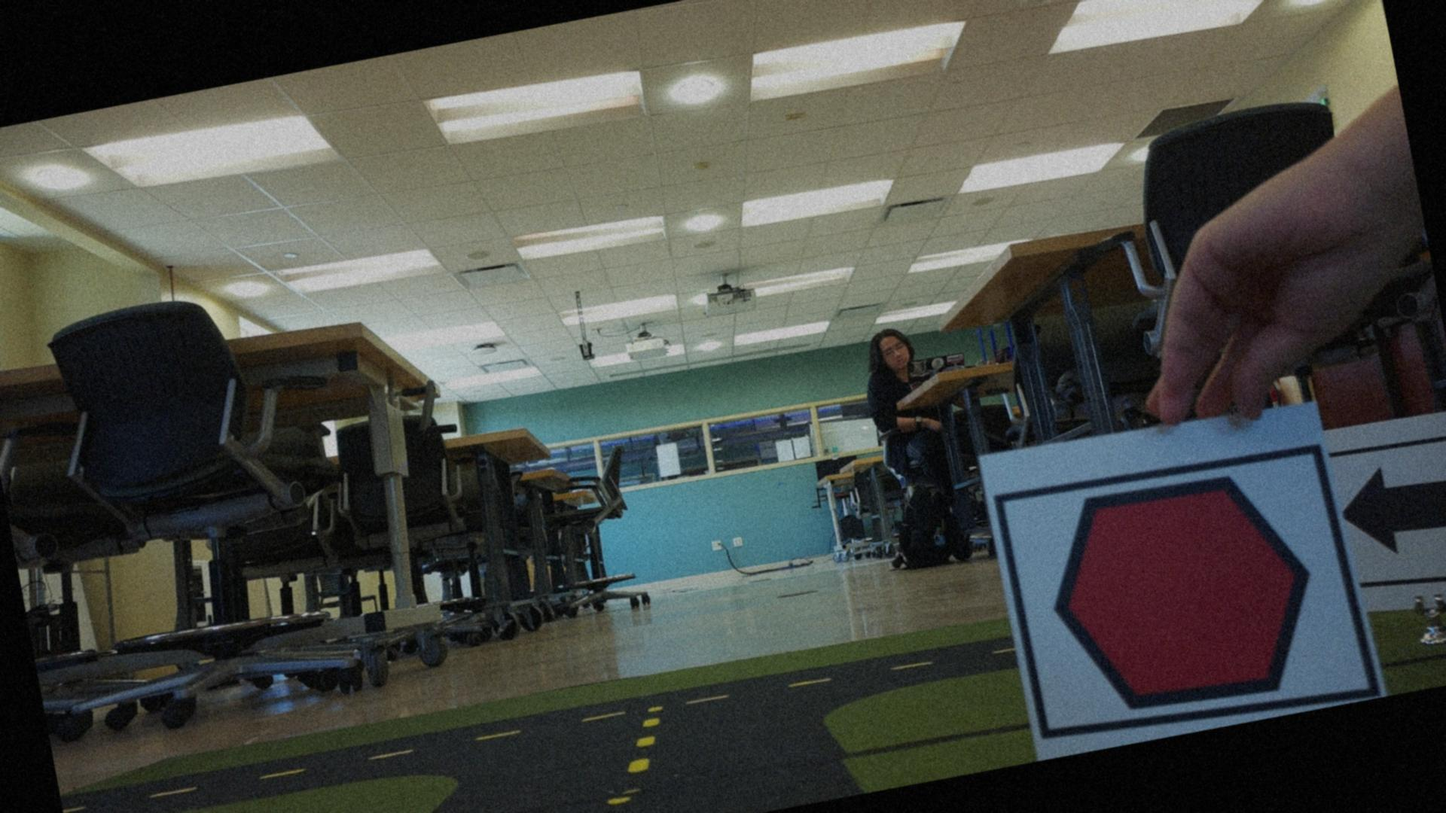stop: (1014, 446, 1345, 744)
turnright: (1334, 439, 1445, 585)
yellowline: (569, 716, 677, 812)
